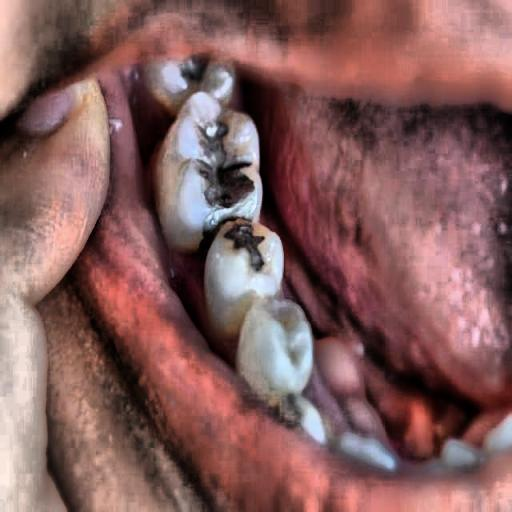Caries: (182, 94, 284, 289)
